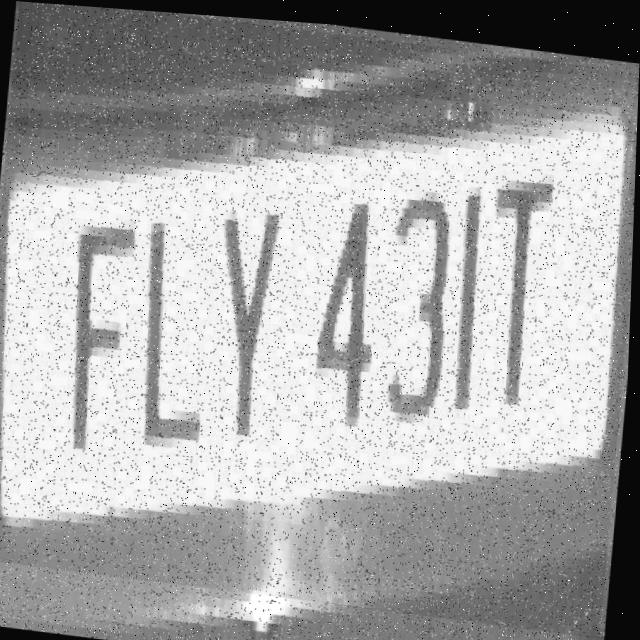LicensePlate: (0, 0, 640, 629)
